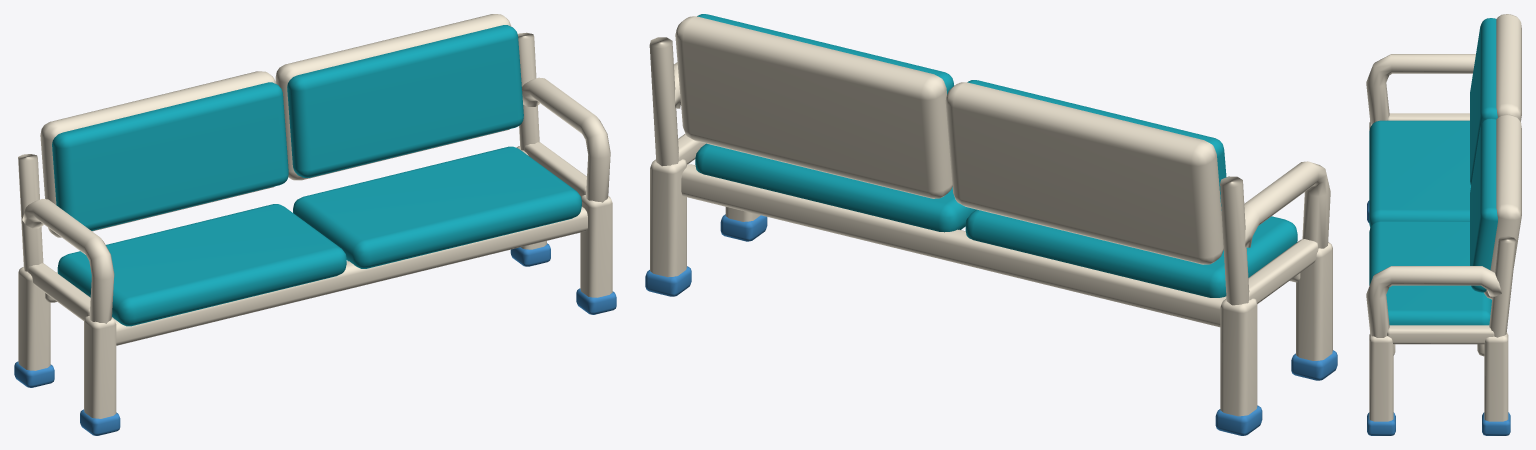
The model's file is Lounge_Sofa_2.glb.
3 renders of one model, left to right at view 1: azimuth 30°, elevation 25°; view 2: azimuth 150°, elevation 25°; view 3: azimuth 270°, elevation 25°, orthographic. The views are drawn at different scales.
Parts seen in each view (by area): view 1: Lounge_Sofa_2__Visual; view 2: Lounge_Sofa_2__Visual; view 3: Lounge_Sofa_2__Visual.
Boxes of the visible parts, left/top/right/bottom form: Lounge_Sofa_2__Visual: left=14, top=14, right=616, bottom=435; Lounge_Sofa_2__Visual: left=645, top=14, right=1337, bottom=435; Lounge_Sofa_2__Visual: left=1366, top=14, right=1521, bottom=435.
Size of the model in its own units: 2.05 by 0.9242 by 0.6027.
1 material, 1 textured.
